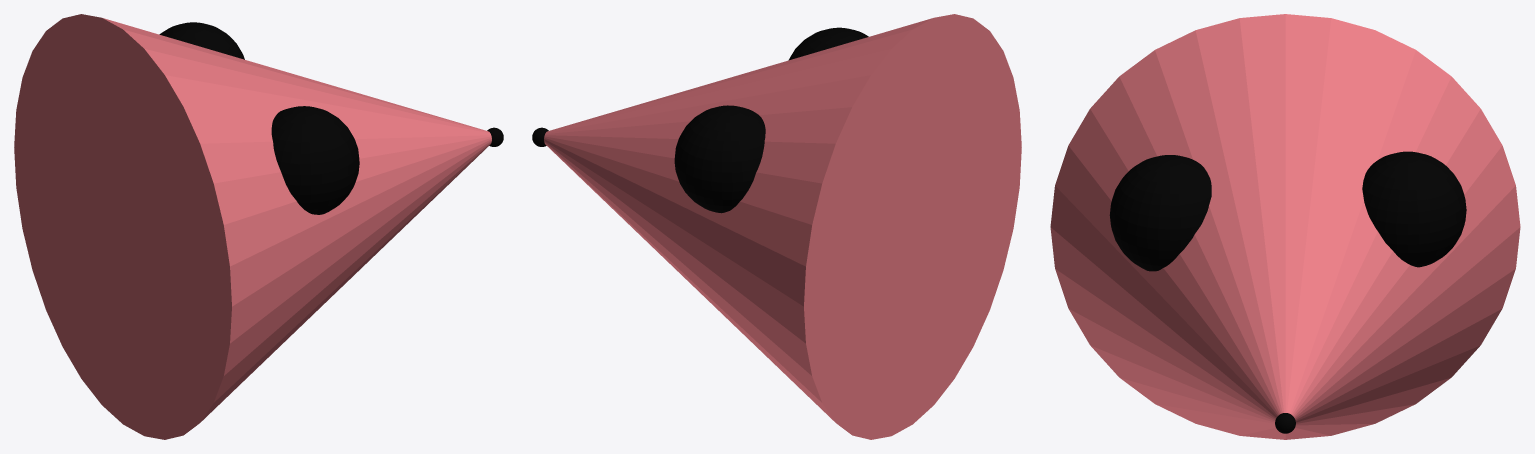
The model's file is fire.fbx.
3 renders of one model, left to right at view 1: azimuth 30°, elevation 25°; view 2: azimuth 150°, elevation 25°; view 3: azimuth 270°, elevation 25°, orthographic. The views are drawn at different scales.
Parts seen in each view (by area): view 1: Cone, Sphere, Sphere.001; view 2: Cone, Sphere.001, Sphere; view 3: Cone, Sphere.001, Sphere.
Boxes of the visible parts, box(x1,y1,x2,y2) form: Cone: box(14, 14, 491, 439); Sphere: box(271, 106, 359, 214); Sphere.001: box(159, 22, 244, 59); Cone: box(544, 14, 1021, 439); Sphere.001: box(674, 105, 765, 213); Sphere: box(788, 27, 868, 60); Cone: box(1050, 14, 1520, 439); Sphere.001: box(1362, 151, 1466, 267); Sphere: box(1109, 155, 1211, 271).
Bounding box in the file's own units: 201 × 200 × 200.
